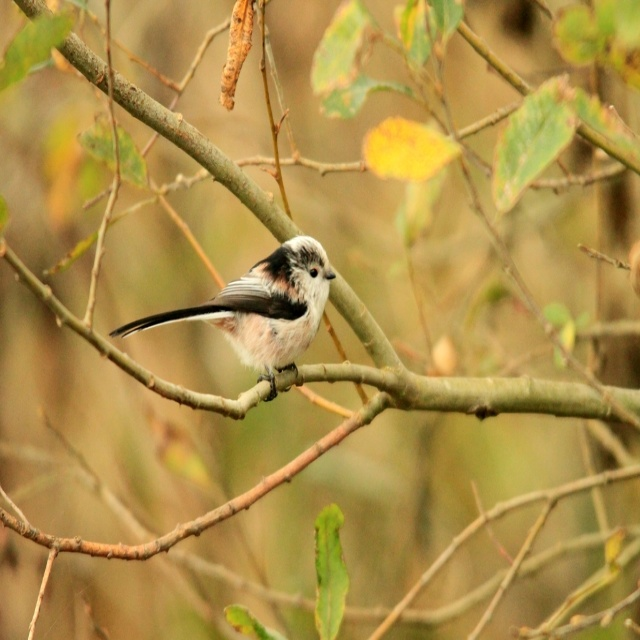Sparrow: (108, 234, 335, 405)
